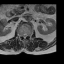CCS_normal: (23, 32, 25, 40)
LFS_stenosis: (27, 32, 29, 38)
LLS_normal: (25, 32, 27, 37)
RFS_stenosis: (20, 33, 22, 38)
RLS_normal: (22, 32, 23, 38)
